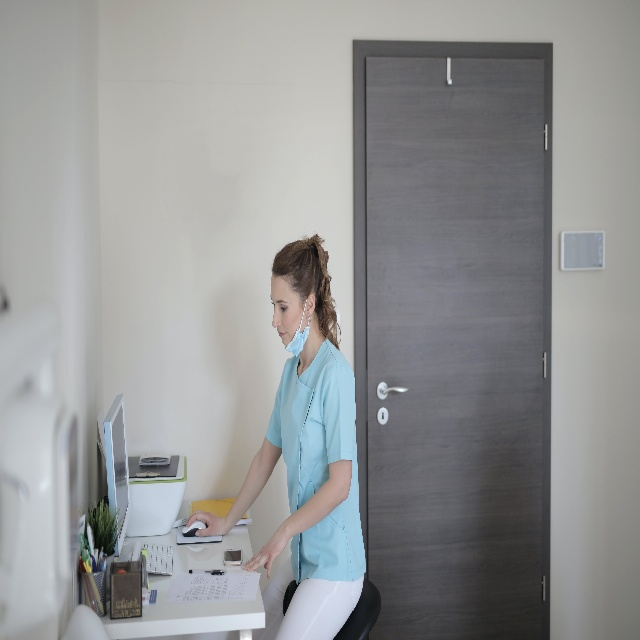Mascara: (284, 297, 310, 358)
Sin_guantes: (242, 523, 288, 581), (185, 511, 230, 537)
